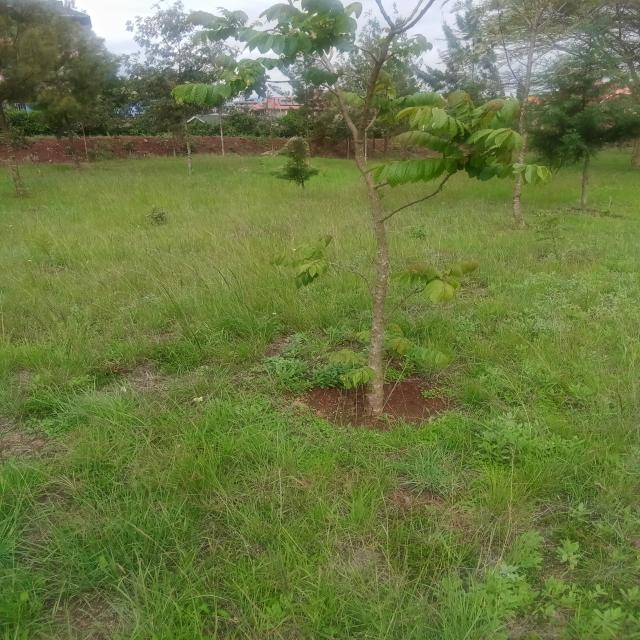Juniperus procesera: (534, 20, 640, 202)
Polyscias Kikuyensis: (177, 0, 553, 409)
